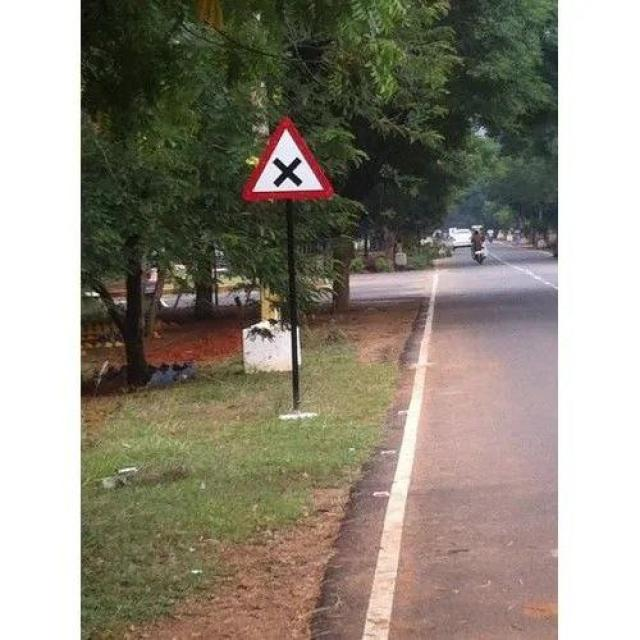Crossroads: (252, 121, 336, 200)
